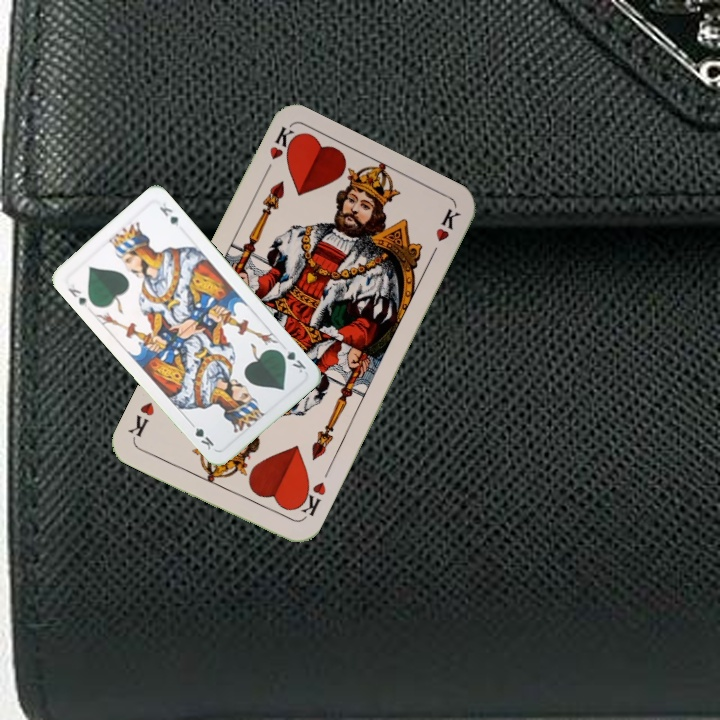GK: (274, 345, 309, 376), (64, 284, 90, 310)
HK: (258, 123, 300, 180), (291, 475, 329, 524)
